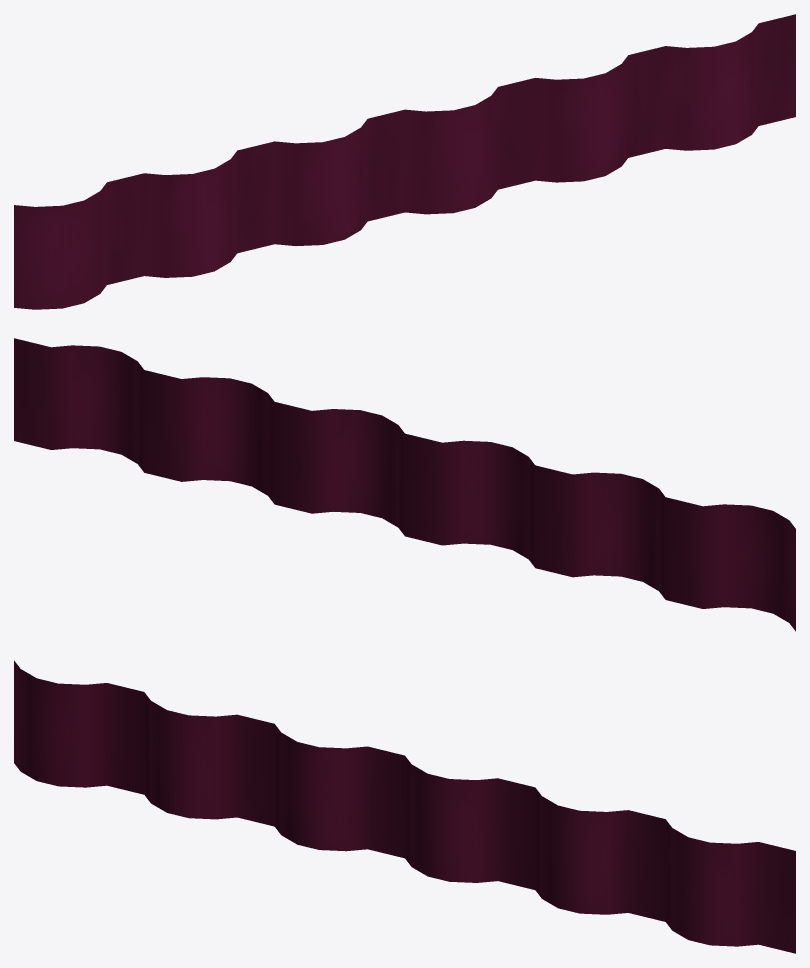
Rendered from Curtain_StraightPiece.fbx.
3 views of the same model, one above another, from view 1: azimuth 30°, elevation 25°; view 2: azimuth 150°, elevation 25°; view 3: azimuth 330°, elevation 25° (orthographic).
Visible parts, largest first — view 1: CurtainStraightPiece; view 2: CurtainStraightPiece; view 3: CurtainStraightPiece.
Boxes of the visible parts, x1,y1,x2,y2 form: CurtainStraightPiece: [14, 14, 795, 309]; CurtainStraightPiece: [14, 338, 795, 631]; CurtainStraightPiece: [14, 660, 795, 953].
Size of the model in its own units: 138 by 17.34 by 3.93.
